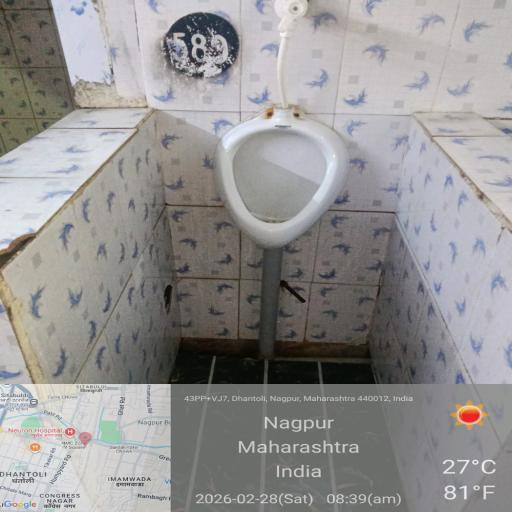clean_urinal: (198, 79, 368, 243)
partial_dirty_floor: (132, 275, 512, 512)
